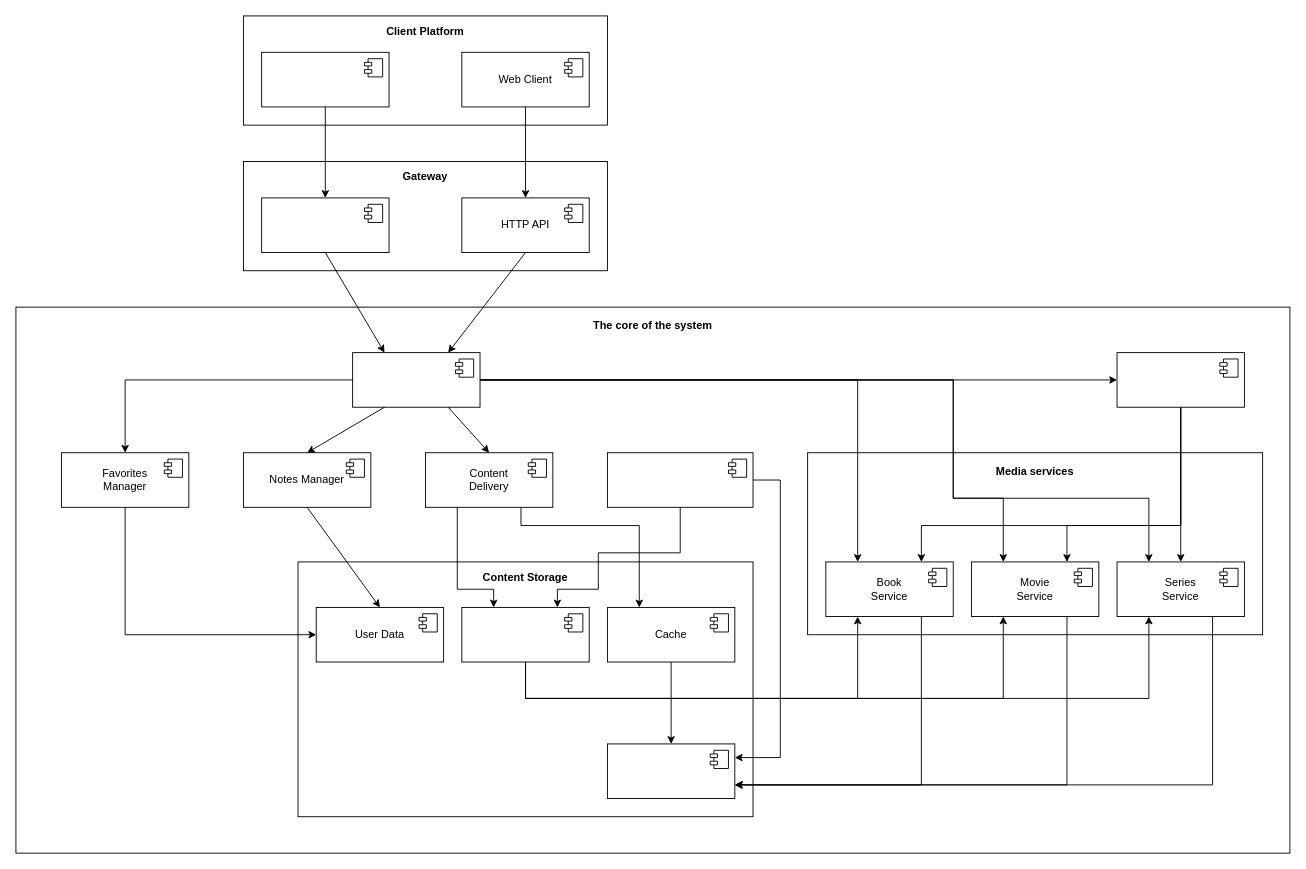
The diagram is 1306 pixels wide and 869 high, and some of its shapes have lost their labels. The centre of each missing label's shape, as x and y in pixels:
"Files Storage" goes at pixel 525 634.
"Media Catalog" goes at pixel 671 771.
"Recommendation Engine" goes at pixel 680 479.
"Telegram Bot Interface" goes at pixel 325 225.
"Telegram Client" goes at pixel 325 79.
"Unified Search + Filter" goes at pixel 1180 379.
"User Session Manager" goes at pixel 416 379.
